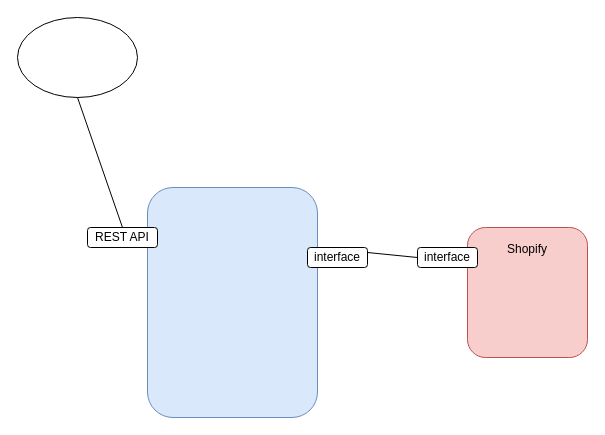
Some shapes in this 605 by 435 pixel diagram are drawn without their labels. Each missing label, with the centre of its shape:
"calacS System" belongs at pixel 232 302.
"UI - shop" belongs at pixel 77 57.
